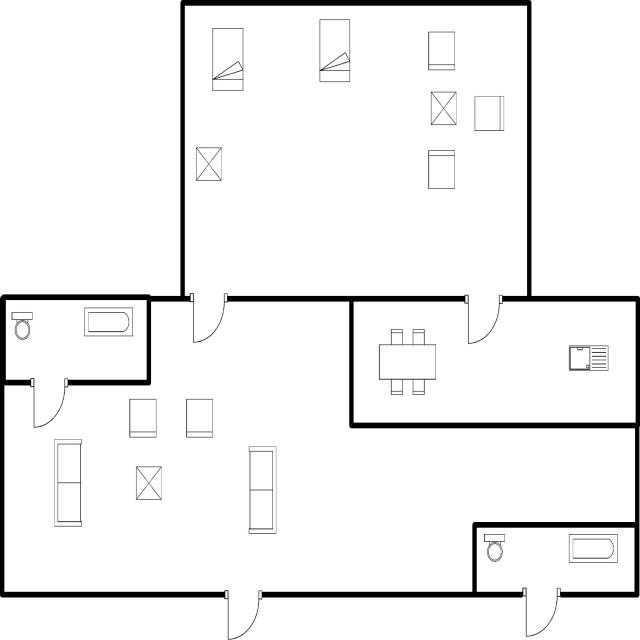bed: (210, 22, 248, 98), (315, 15, 355, 87)
coffee_table: (133, 463, 166, 504), (428, 87, 459, 129), (194, 144, 225, 186)
dining_table: (374, 324, 438, 399)
large_sink: (8, 307, 38, 345), (479, 530, 507, 565)
large_sofa: (245, 442, 281, 541), (50, 435, 84, 530)
sink: (566, 340, 613, 377)
small_sofa: (125, 394, 160, 446), (182, 394, 218, 442), (424, 27, 460, 74), (471, 92, 507, 136), (424, 146, 459, 191)
tub: (565, 531, 621, 569), (81, 305, 136, 341)
